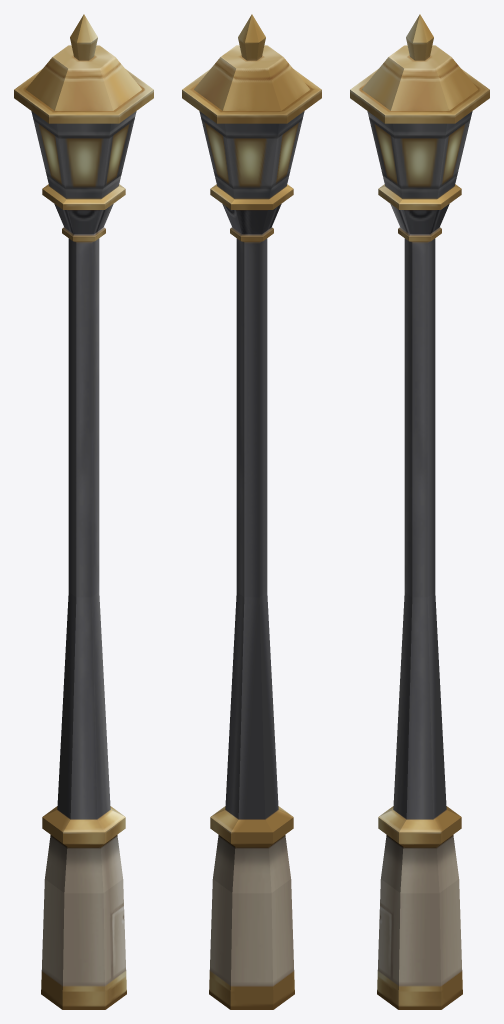
The model's file is zhucheng_ludeng_1.FBX.
The picture shows the model from 3 angles, left to right: view 1: azimuth 90°, elevation 25°; view 2: azimuth 210°, elevation 25°; view 3: azimuth 270°, elevation 25°; orthographic projection.
Parts seen in each view (by area): view 1: zhucheng_ludeng_1; view 2: zhucheng_ludeng_1; view 3: zhucheng_ludeng_1.
Boxes of the visible parts, x1,y1,x2,y2 form: zhucheng_ludeng_1: (14,14,153,1009); zhucheng_ludeng_1: (182,14,321,1009); zhucheng_ludeng_1: (350,14,489,1009).
Bounding box in the file's own units: 37.36 × 334 × 43.14.
